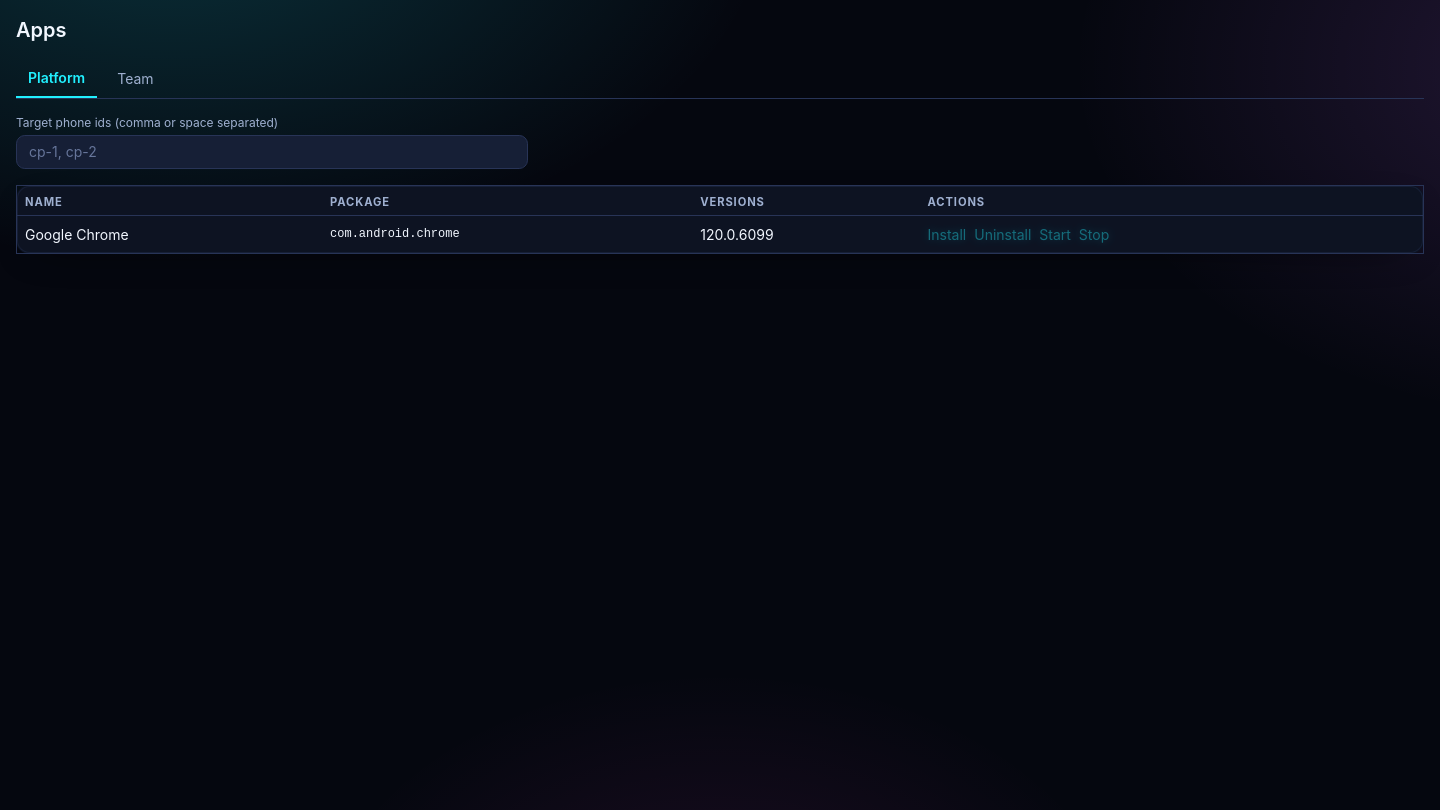
Test case: AppsPage › switches to the team tab
The width and height of the screenshot is (1440, 810).
Expected: the text "Google Chrome" is shown, [16,215,322,253]
Click the button "Team".
click(135, 79)  # box [105,60,166,98]
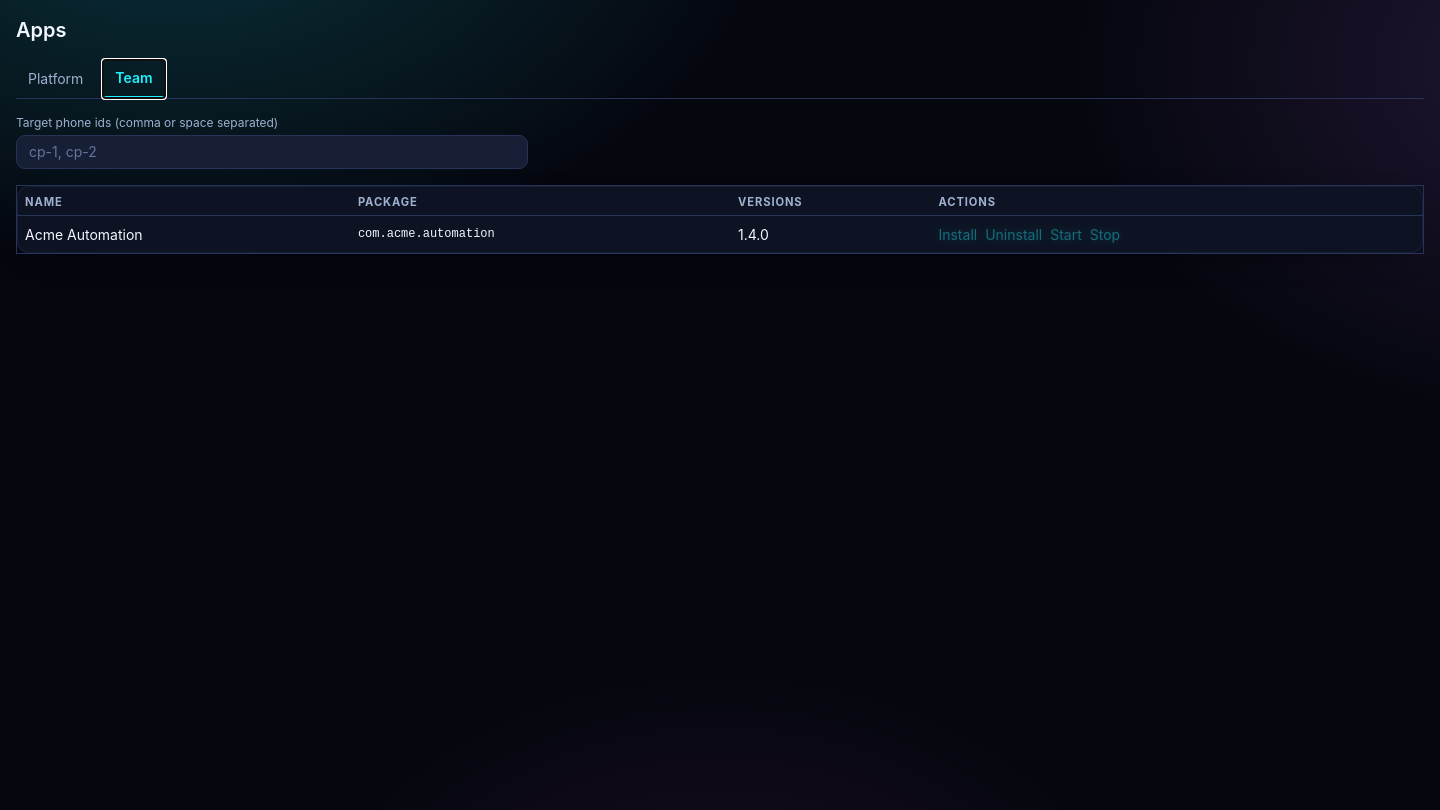
Expected: the text "Acme Automation" is shown, [16,215,350,253]
